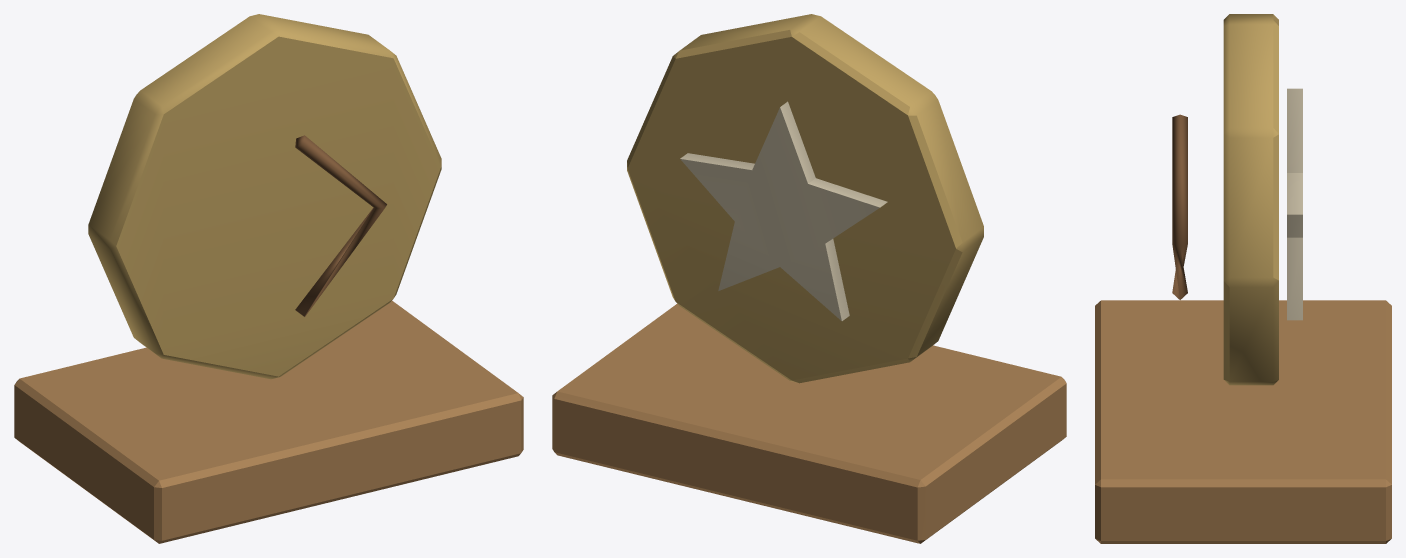
The model's file is badge_low.glb.
3 renders of one model, left to right at view 1: azimuth 30°, elevation 25°; view 2: azimuth 150°, elevation 25°; view 3: azimuth 270°, elevation 25°, orthographic. The views are drawn at different scales.
Bounding box in the file's own units: 0.11 × 0.1204 × 0.075.
